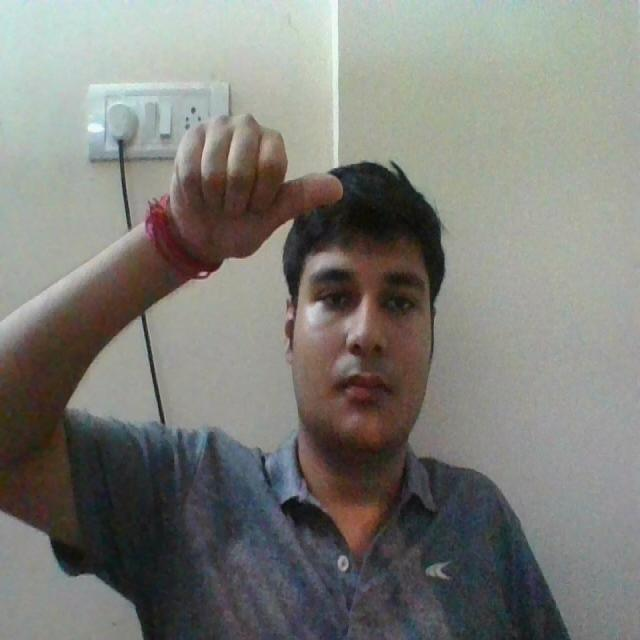Yes: (140, 105, 344, 288)
